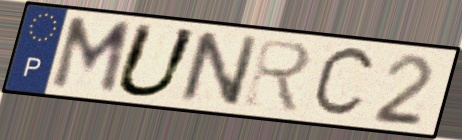2: (372, 51, 436, 128)
C: (307, 43, 379, 122)
M: (46, 15, 136, 99)
N: (176, 29, 263, 109)
R: (241, 35, 314, 116)
U: (111, 20, 203, 101)
